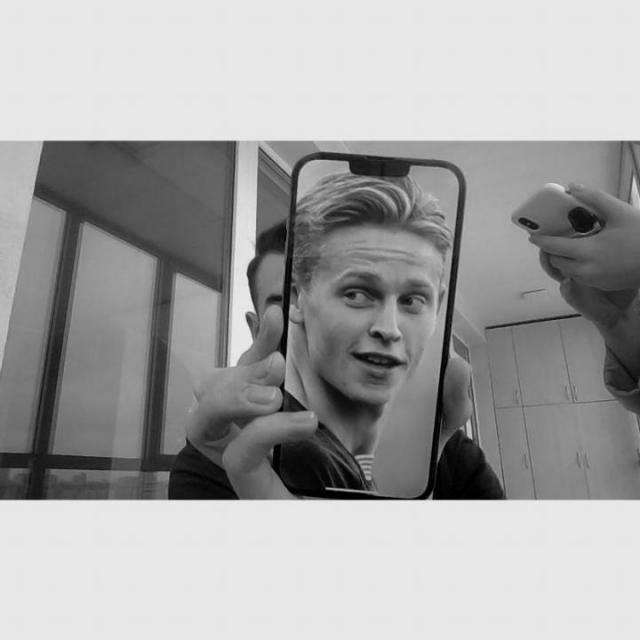fake: (273, 152, 469, 499)
